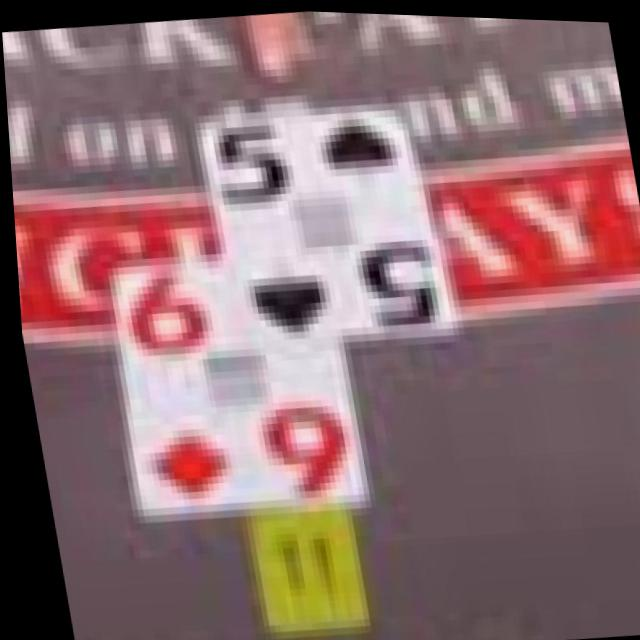Card-5: (200, 104, 448, 347)
Card-6: (109, 260, 361, 519)
